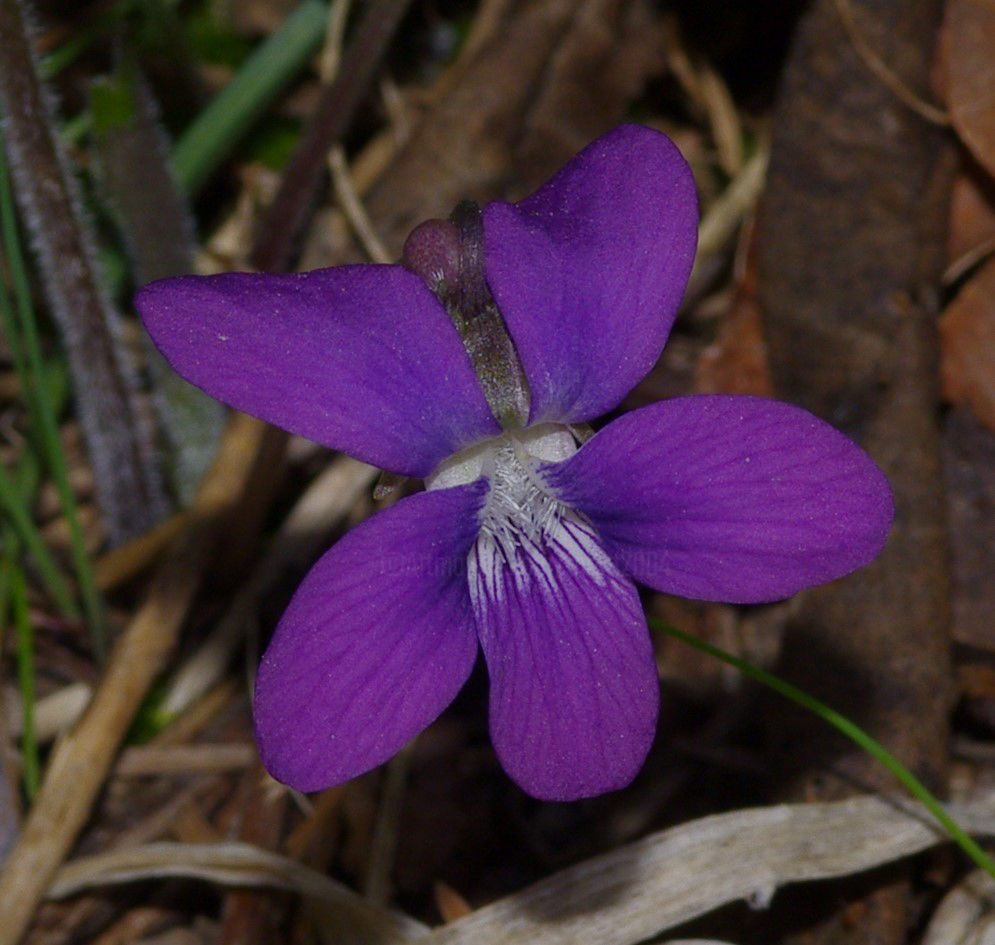violet: (115, 113, 891, 810)
